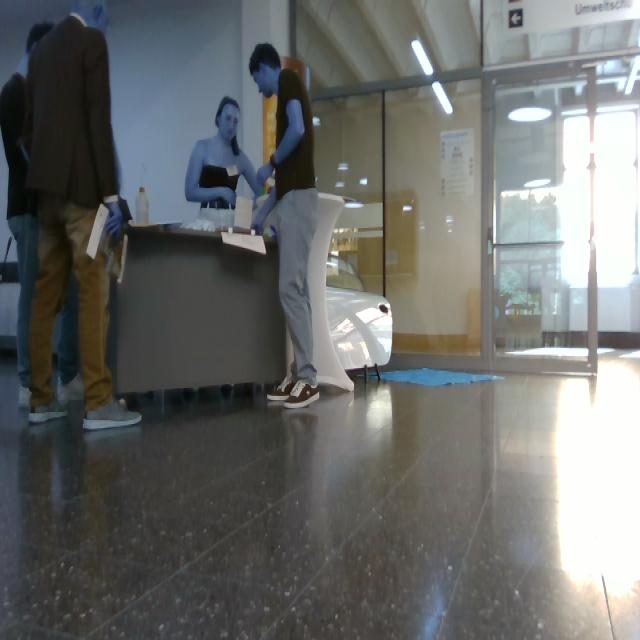desk: (110, 226, 286, 394)
light bulb: (507, 90, 555, 124), (412, 40, 432, 76), (432, 82, 453, 116), (626, 56, 640, 96)
person: (26, 1, 141, 430), (250, 44, 319, 408), (1, 22, 54, 406), (186, 97, 265, 209), (57, 280, 80, 400)
table: (308, 194, 351, 389)
tiled floor: (1, 358, 640, 640)
